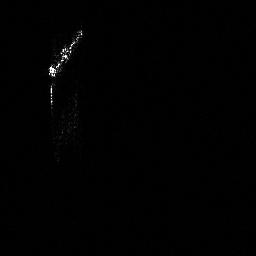ship: (44, 26, 86, 81)
